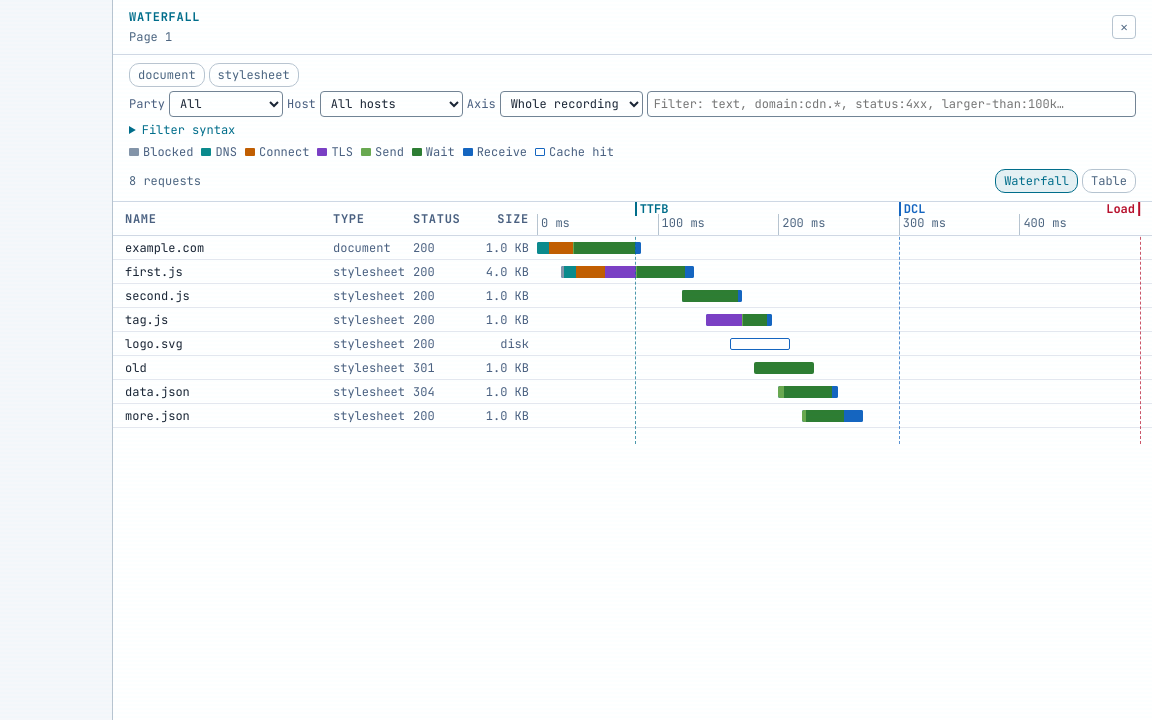
Scenario: RequestDetail: the sequence of a request › says which request opened a reused connection, and leaves out the resolver
What coordinates should you click on to do the following:
click the button "second.js stylesheet 200 1.0 KB"
I would click on:
 (157, 296)
Its box is [113,284,1151,308].
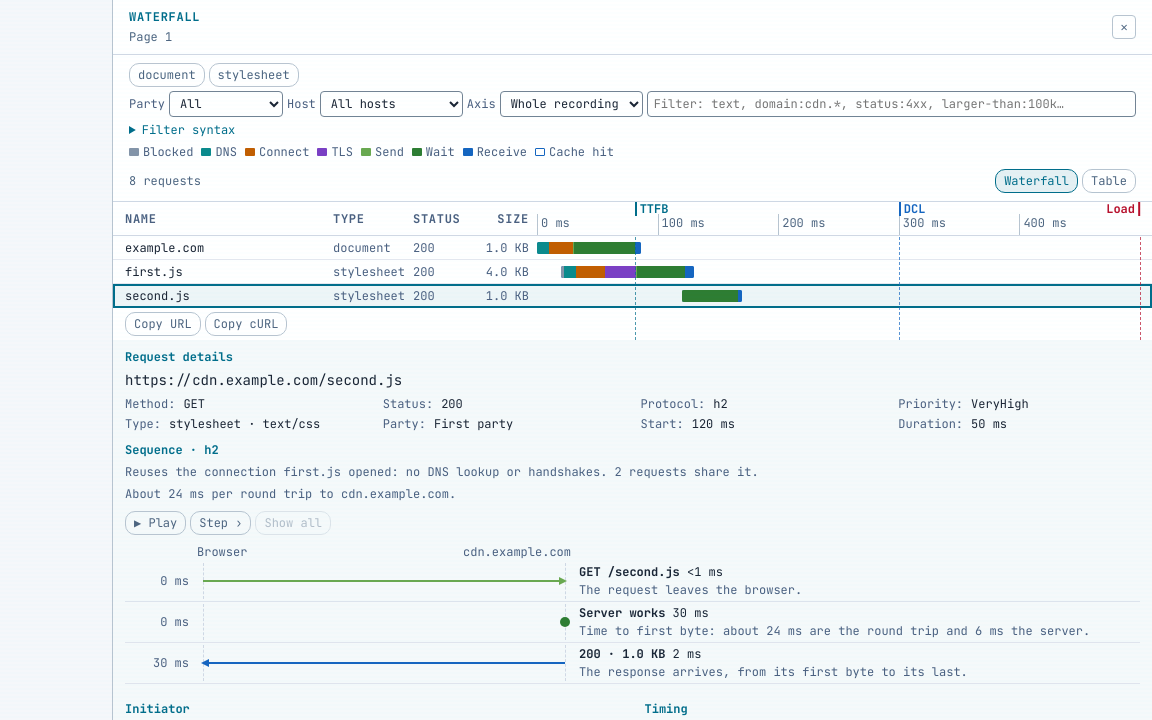
expect the element "Sequence" shows "Reuses the connection first.js opened: no DNS lookup or handshakes.": met, box [125,464,759,480]
expect the list item that starts with "0 ms" shows "about 24 ms are the round trip and 6 ms the server": met, box [579,623,1090,639]
